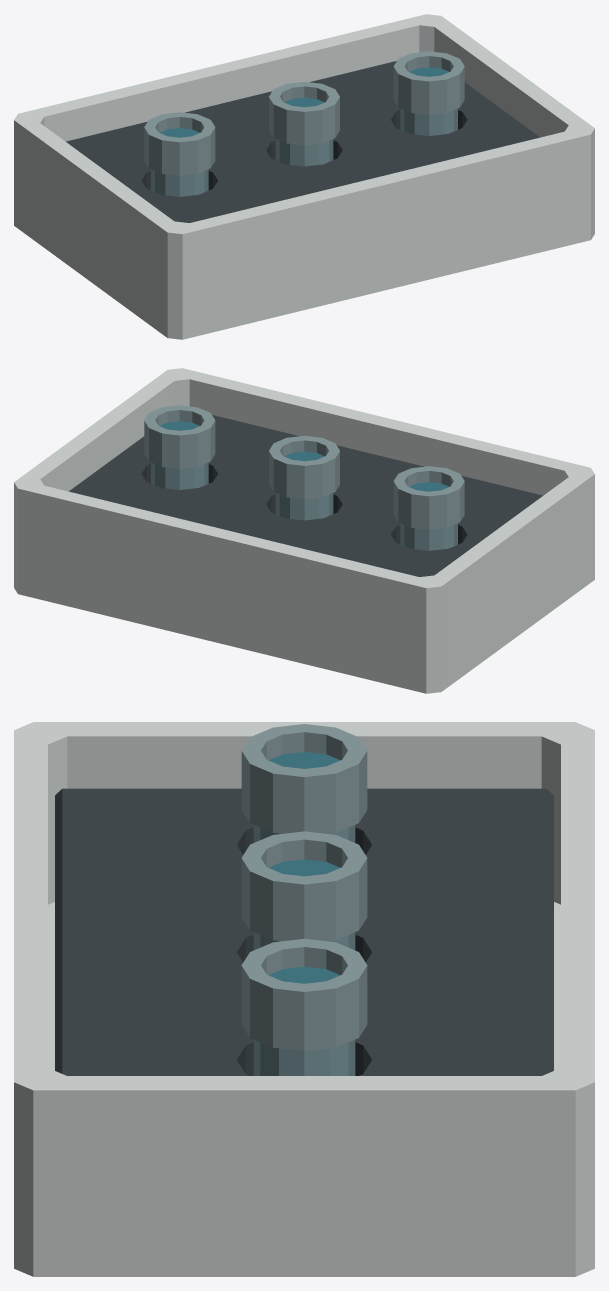
3 views of the same model, one above another, from view 1: azimuth 30°, elevation 25°; view 2: azimuth 150°, elevation 25°; view 3: azimuth 270°, elevation 25° (orthographic). The views are drawn at different scales.
Parts seen in each view (by area): view 1: Continuous open case wall, Recessed three-bore insert, Open case floor, Recessed ocular collar 2, Recessed ocular collar 0, Recessed ocular collar 1, Resting eyepiece barrel 1, Resting eyepiece barrel 0, Resting eyepiece barrel 2; view 2: Continuous open case wall, Recessed three-bore insert, Open case floor, Recessed ocular collar 2, Recessed ocular collar 0, Recessed ocular collar 1, Resting eyepiece barrel 1, Resting eyepiece barrel 0, Resting eyepiece barrel 2; view 3: Continuous open case wall, Recessed three-bore insert, Open case floor, Recessed ocular collar 2, Recessed ocular collar 0, Recessed ocular collar 1, Resting eyepiece barrel 2, Inset ocular glass 1, Inset ocular glass 0, Inset ocular glass 2.
Part boxes in pixels (x1,y1,x2,y2): Continuous open case wall: (14, 14, 594, 324); Recessed three-bore insert: (66, 61, 539, 222); Open case floor: (14, 211, 594, 339); Recessed ocular collar 2: (393, 51, 464, 114); Recessed ocular collar 0: (144, 112, 215, 175); Recessed ocular collar 1: (269, 81, 339, 145); Resting eyepiece barrel 1: (275, 139, 333, 166); Resting eyepiece barrel 0: (151, 169, 208, 196); Resting eyepiece barrel 2: (400, 108, 457, 135); Continuous open case wall: (14, 368, 594, 678); Recessed three-bore insert: (69, 415, 542, 576); Open case floor: (14, 565, 594, 693); Recessed ocular collar 2: (144, 405, 215, 468); Recessed ocular collar 0: (393, 466, 464, 529); Recessed ocular collar 1: (269, 435, 339, 499); Resting eyepiece barrel 1: (275, 493, 333, 520); Resting eyepiece barrel 0: (400, 523, 457, 550); Resting eyepiece barrel 2: (151, 462, 208, 489); Continuous open case wall: (14, 722, 594, 1250); Recessed three-bore insert: (55, 788, 553, 1075); Open case floor: (14, 902, 594, 1276); Recessed ocular collar 2: (241, 939, 367, 1051); Recessed ocular collar 0: (241, 724, 367, 833); Recessed ocular collar 1: (241, 831, 367, 941); Resting eyepiece barrel 2: (253, 1040, 355, 1075); Inset ocular glass 1: (268, 859, 340, 876); Inset ocular glass 0: (268, 752, 340, 768); Inset ocular glass 2: (269, 966, 339, 983).
Bounding box in the file's own units: 0.36 × 0.107 × 0.24.
